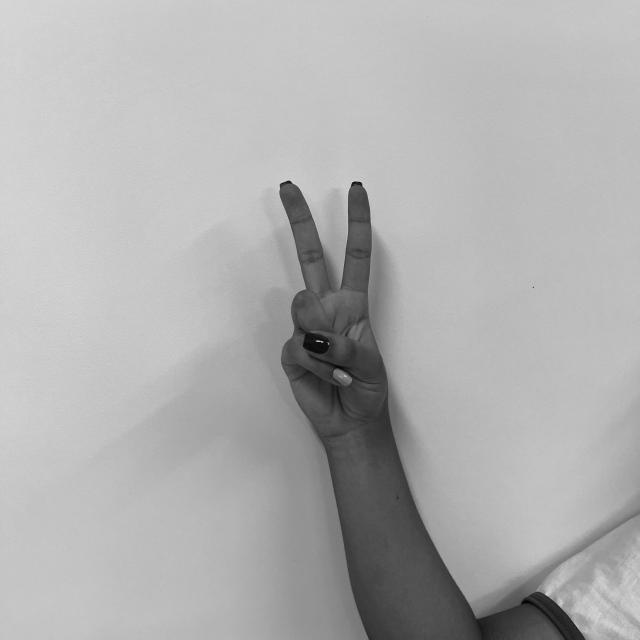Letra V: (274, 176, 395, 429)
